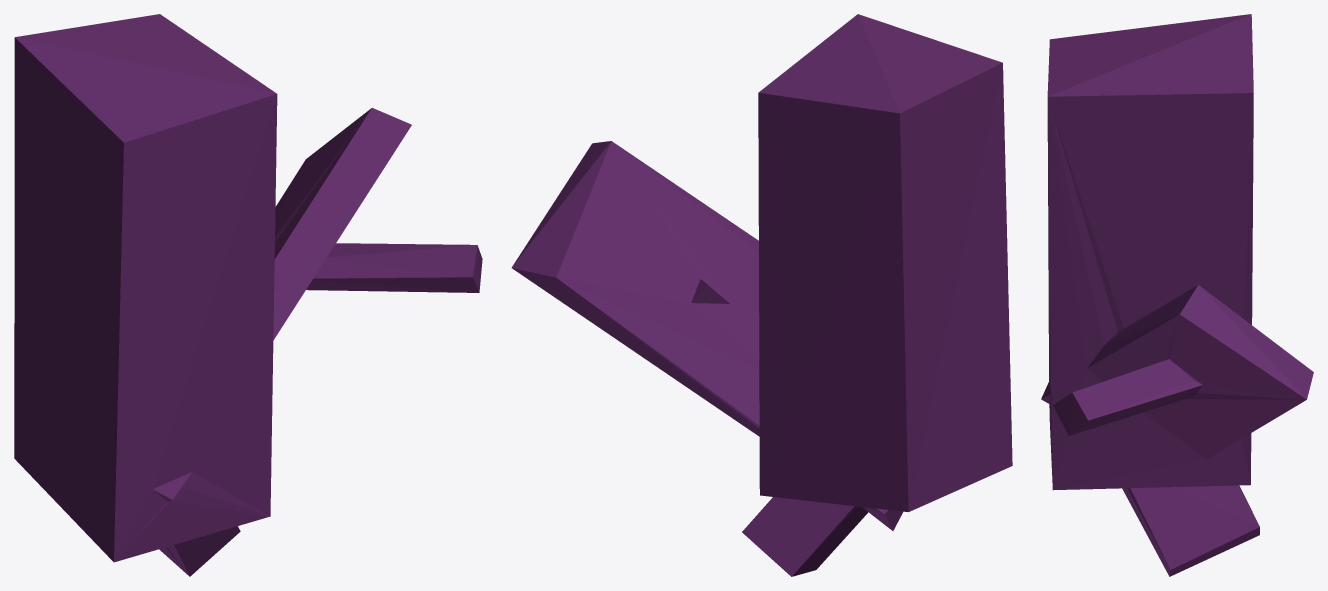
3 views of the same model, side by side, from view 1: azimuth 30°, elevation 25°; view 2: azimuth 150°, elevation 25°; view 3: azimuth 270°, elevation 25° (orthographic). The views are drawn at different scales.
Parts seen in each view (by area): view 1: 055_Cube.226; view 2: 055_Cube.226; view 3: 055_Cube.226.
Boxes of the visible parts, <box> form: 055_Cube.226: <box>14,14,482,576</box>; 055_Cube.226: <box>511,14,1012,576</box>; 055_Cube.226: <box>1041,14,1313,576</box>.
Size of the model in its own units: 11.71 by 15.51 by 7.62.
